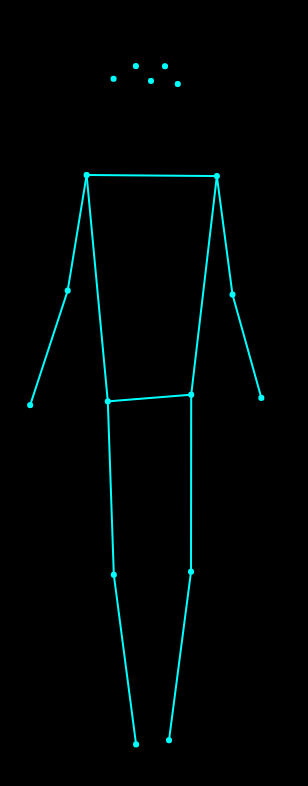mountain: (23, 49, 269, 757)
